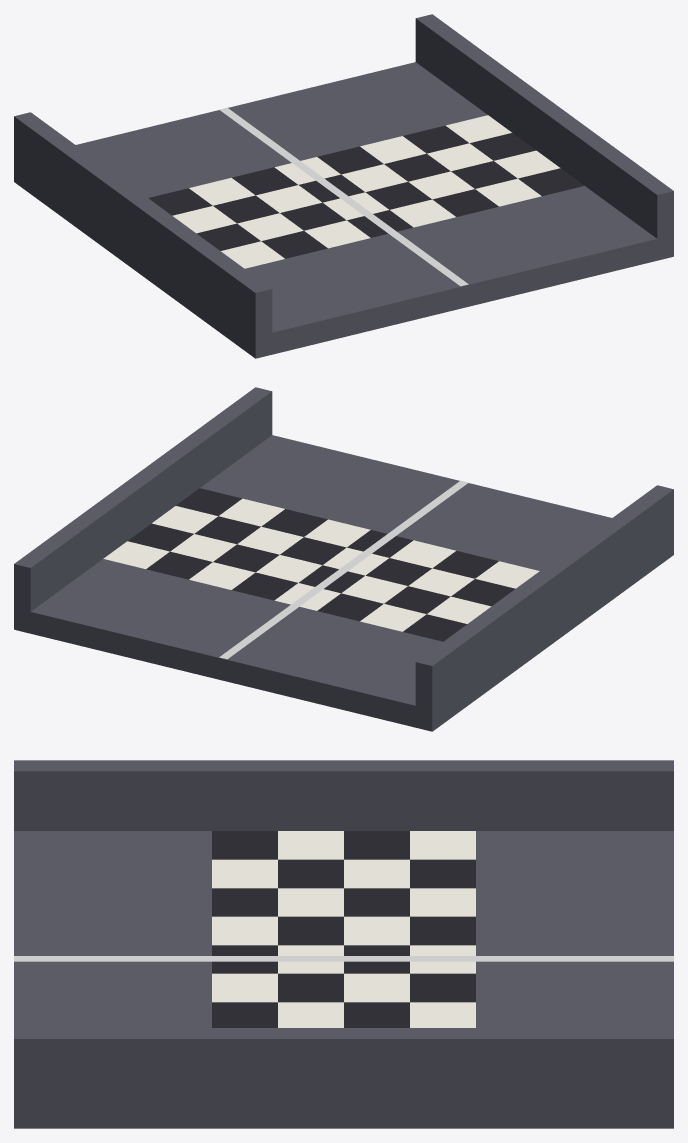
File: ModularTrackStraightFinish.fbx
3 views of the same model, one above another, from view 1: azimuth 30°, elevation 25°; view 2: azimuth 150°, elevation 25°; view 3: azimuth 270°, elevation 25° (orthographic). The views are drawn at different scales.
Parts seen in each view (by area): view 1: ModularTrackStraight, LaneDivider; view 2: ModularTrackStraight, LaneDivider; view 3: ModularTrackStraight, LaneDivider.
Part boxes in pixels (<box>): ModularTrackStraight: <box>14,14,673,358</box>; LaneDivider: <box>219,107,468,286</box>; ModularTrackStraight: <box>14,387,673,731</box>; LaneDivider: <box>219,480,468,659</box>; ModularTrackStraight: <box>14,760,673,1128</box>; LaneDivider: <box>14,956,673,961</box>.
Bounding box in the file's own units: 1000 × 150 × 1000.
